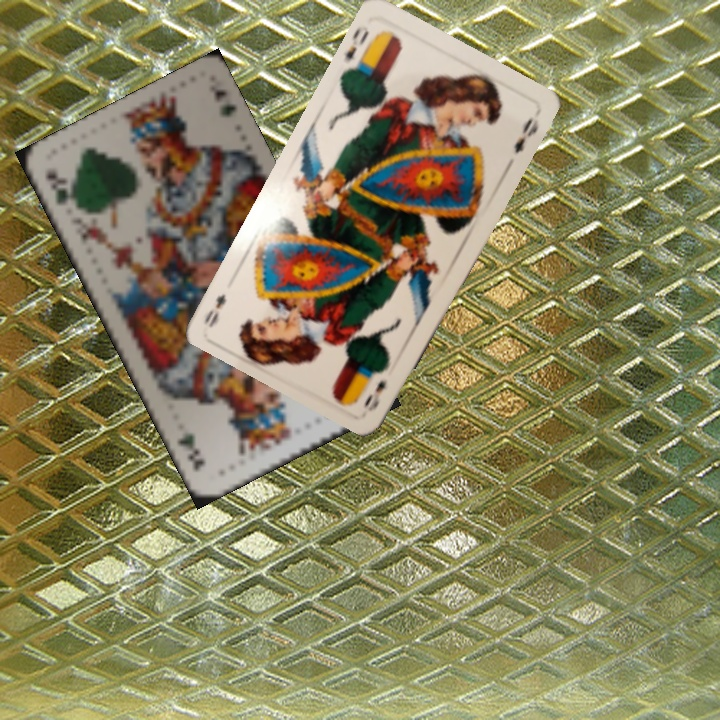EO: (340, 24, 376, 73), (360, 376, 389, 414)
GK: (40, 166, 83, 214)
